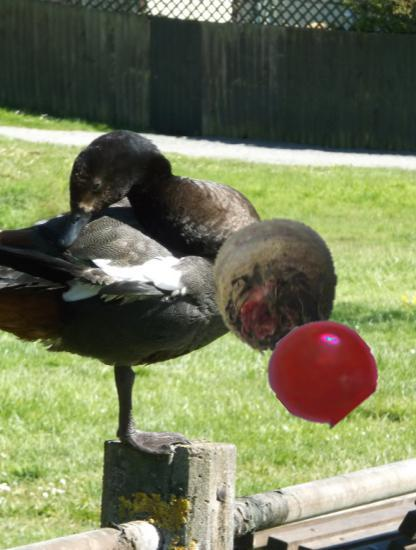Beetroot: (203, 215, 348, 360)
Redcurrant: (271, 320, 375, 424)
